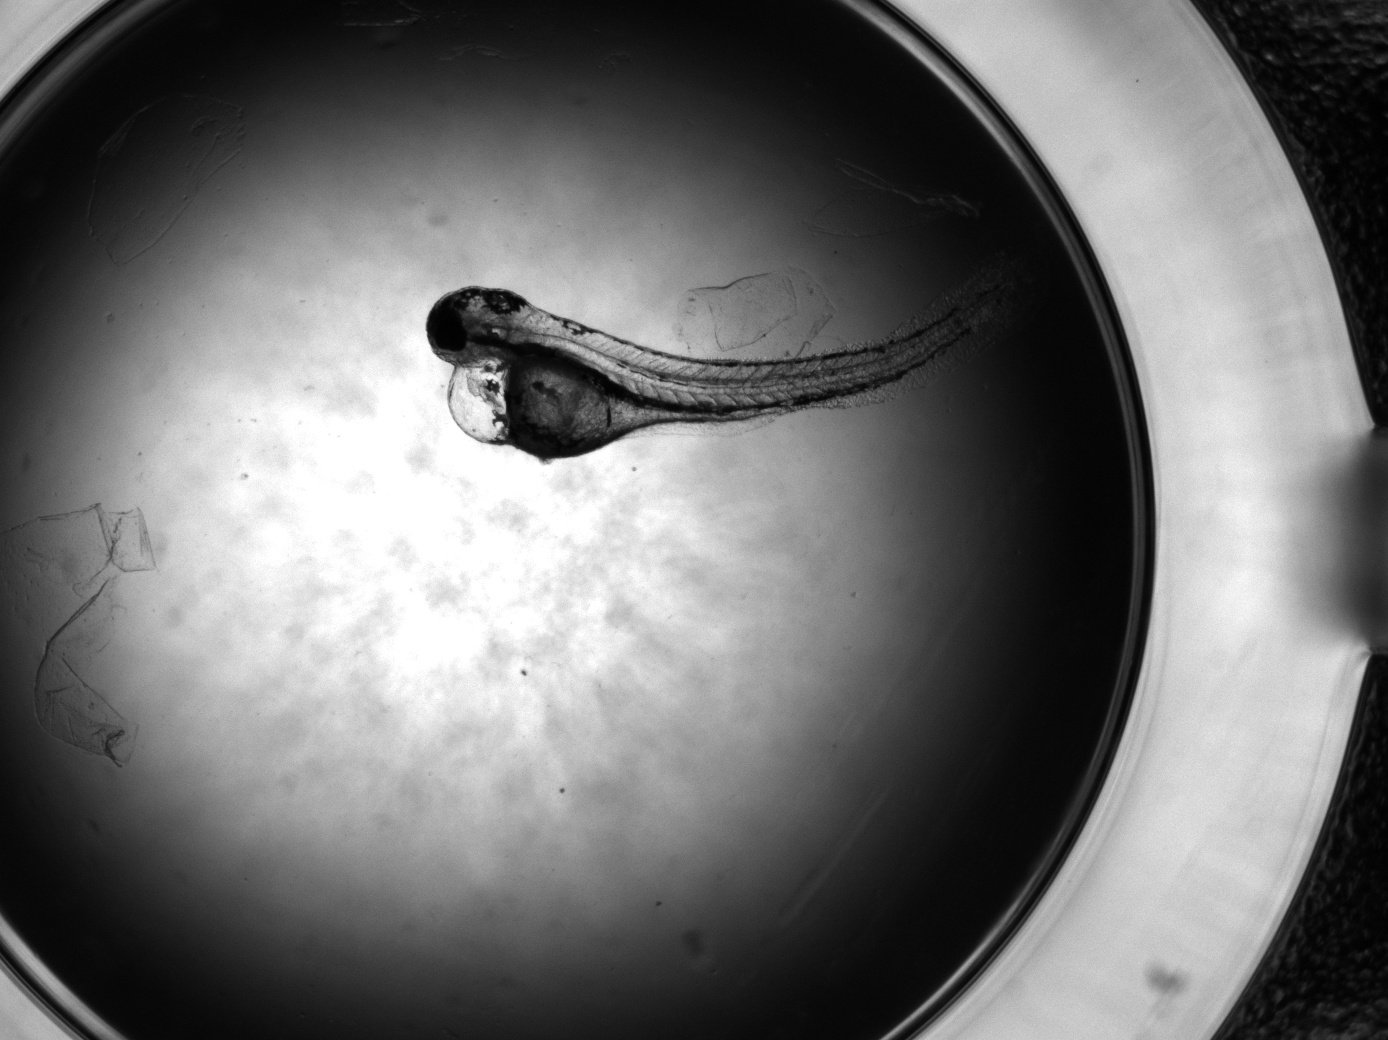debris: (1, 498, 161, 769), (675, 267, 840, 358)
embryo: (425, 285, 1004, 459)
eye: (431, 307, 467, 351)
yolksac: (447, 353, 729, 458)
